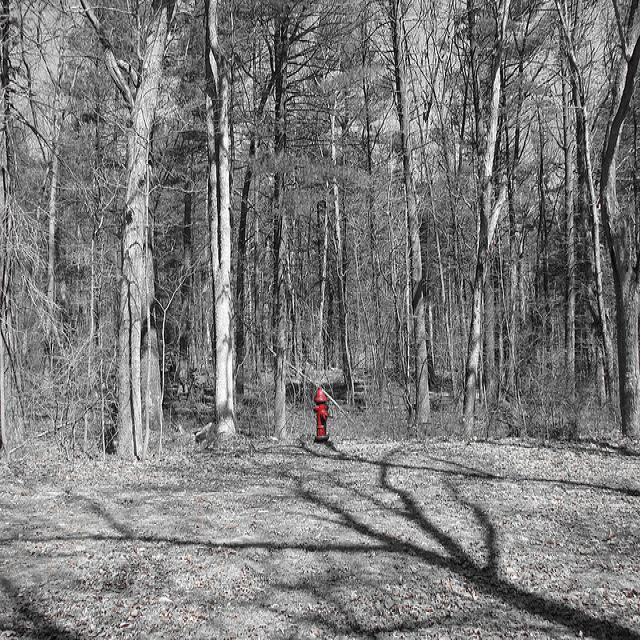fire_hydrant: (313, 386, 329, 442)
